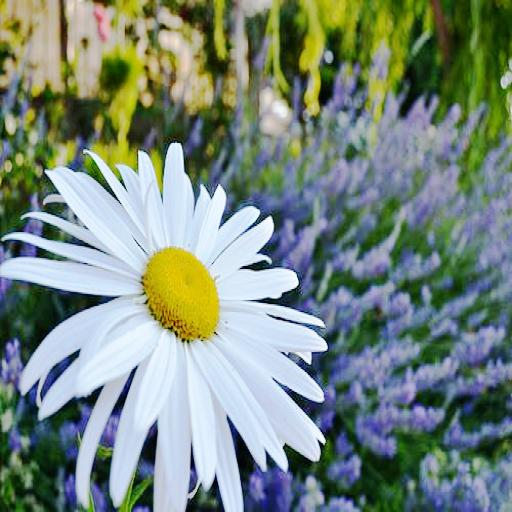daisy: (14, 152, 325, 501)
